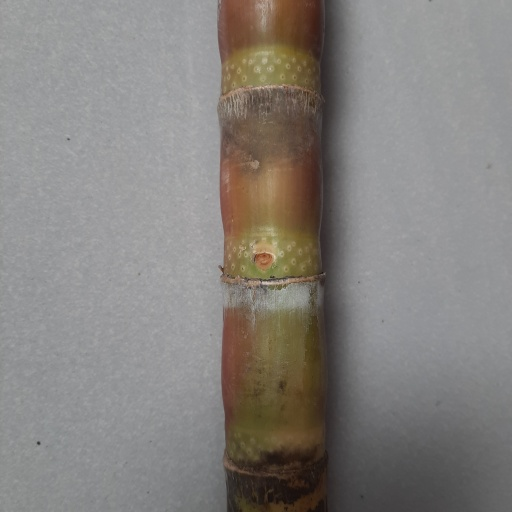Damage_Bud: (252, 252, 276, 273)
